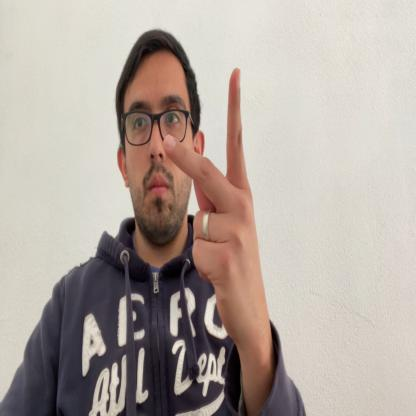P: (163, 64, 266, 341)
